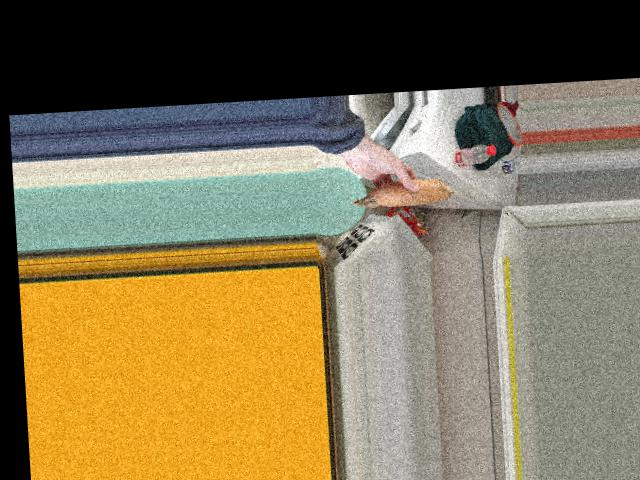sweet_potato: (350, 171, 446, 211)
